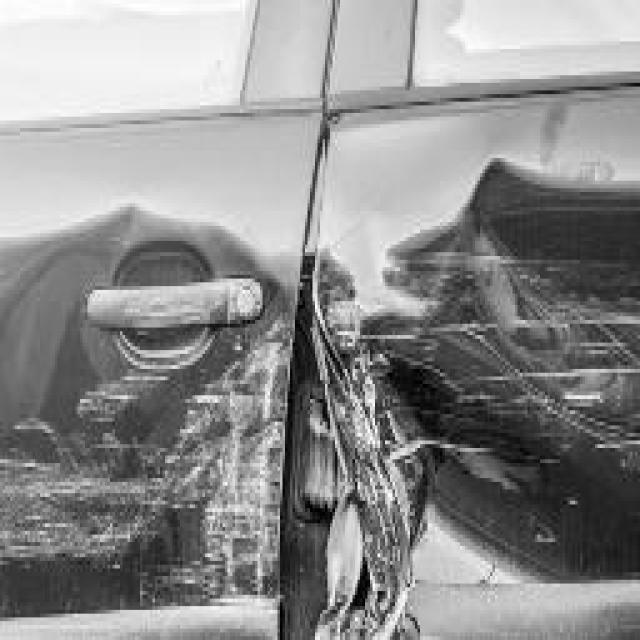Door: (5, 147, 638, 640)
